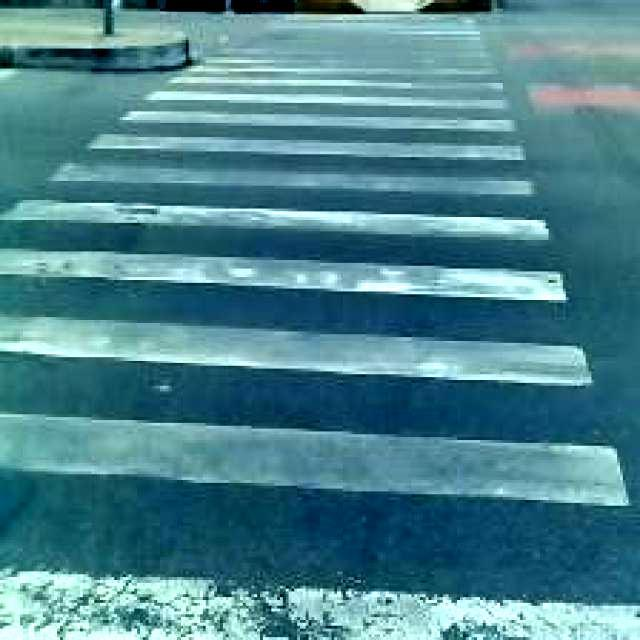crosswalk: (1, 16, 627, 639)
